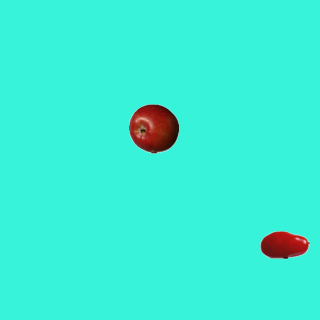Apple Braeburn: (128, 103, 178, 153)
Tomato 2: (259, 219, 309, 269)
